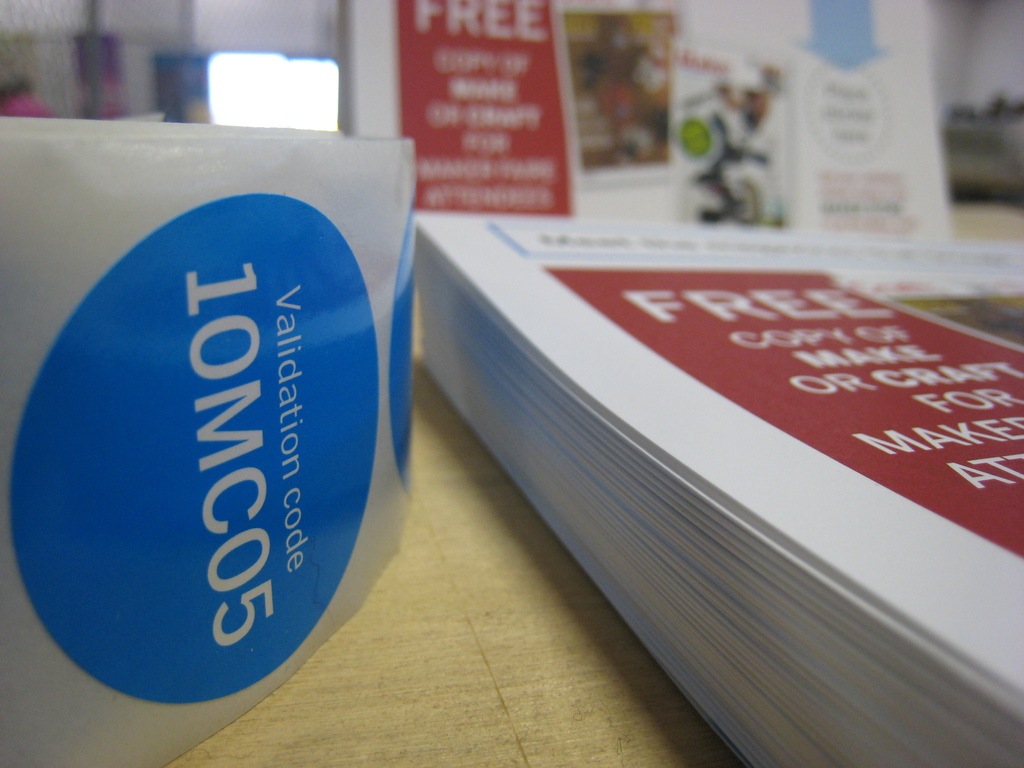Book: (403, 168, 1024, 748)
